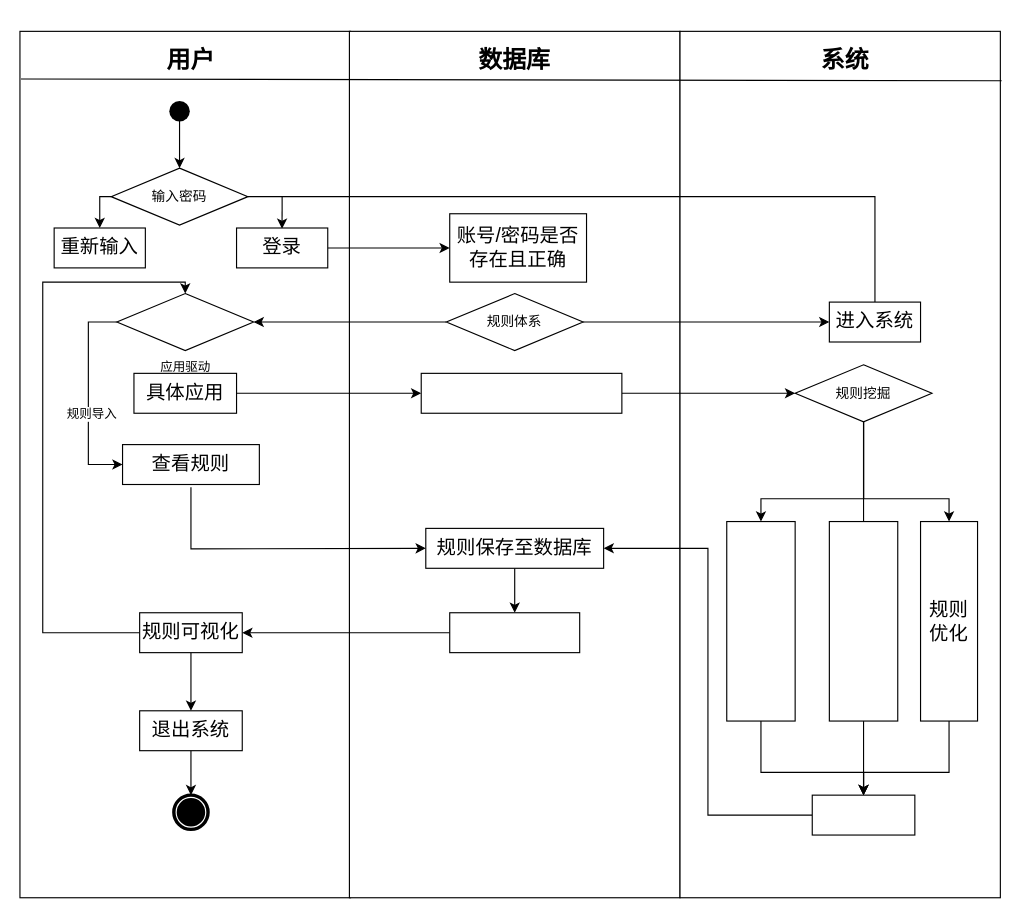
Image size: 1024x918. Some labels were removed from this diagram. Here are the shapes that lost their labels. From the top down, the centre of each, then its label:
pixel 185 321: 指定应用场景
pixel 521 392: 指定规则体系
pixel 514 632: 调取规则信息
pixel 760 620: 规则挖掘模块
pixel 863 620: 规则增量计算
pixel 863 814: 规则生成
